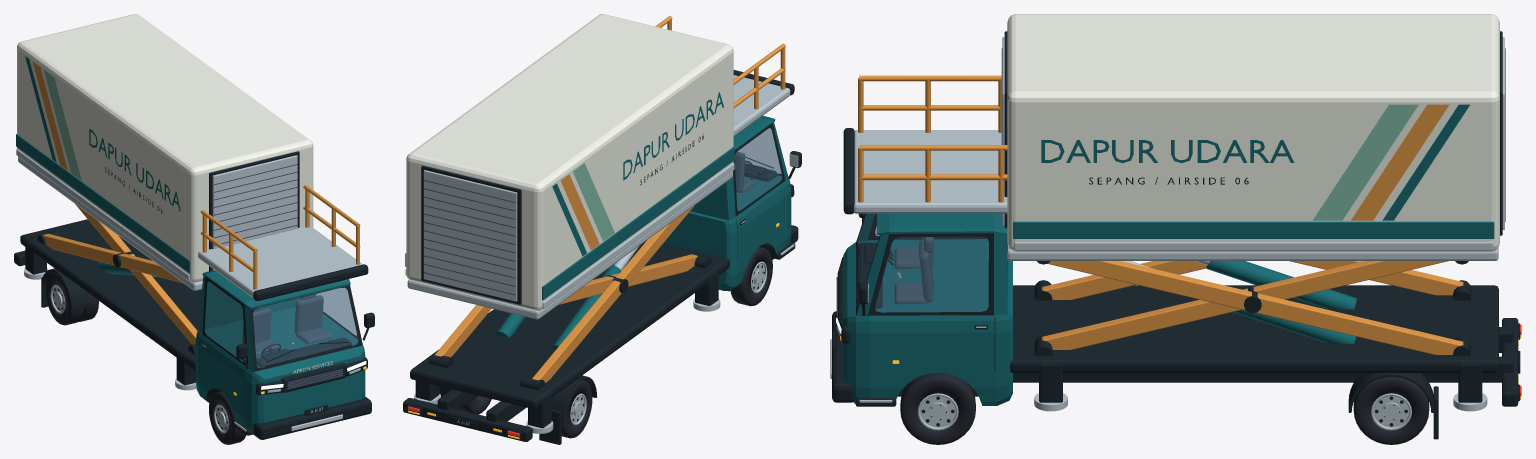
3 views of the same model, side by side, from view 1: azimuth 30°, elevation 25°; view 2: azimuth 150°, elevation 25°; view 3: azimuth 270°, elevation 25° (orthographic). The views are drawn at different scales.
Parts seen in each view (by area): view 1: Sepang Catering Highlift; view 2: Sepang Catering Highlift; view 3: Sepang Catering Highlift.
Part boxes in pixels (bbox=[...]): Sepang Catering Highlift: bbox=[14, 14, 374, 444]; Sepang Catering Highlift: bbox=[403, 14, 801, 444]; Sepang Catering Highlift: bbox=[830, 14, 1521, 444].
Size of the model in its own units: 2.64 by 4.71 by 8.32.
